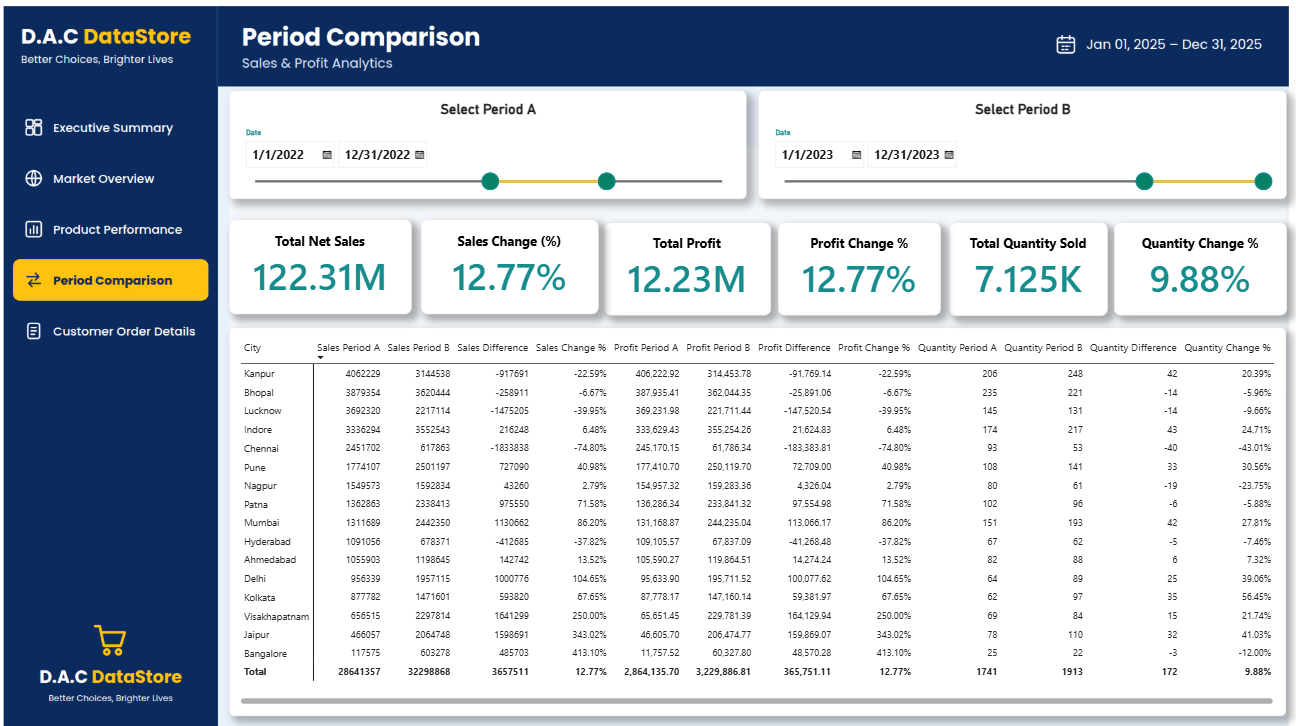

This screenshot's page, from the dashboard's own definition file:
{"tool":"powerbi","page":{"name":"Period Comparison","canvas":[1920,1080],"ordinal":3},"visuals":[{"type":"image","box":[10,0,1910,1080],"z":0},{"type":"shape","box":[360,217.5,1532.5,350],"z":1000},{"type":"pivotTable","fields":{"Rows":["Dim Product.Product Name","Dim Customers.City","Dim Promotion.Promotion Name"],"Values":["Calendar.Sales Period A","Calendar.Sales Period B","Calendar.Sales Difference","Calendar.Sales Change %","Calendar.Profit Period A","Calendar.Profit Period B","Calendar.Profit Difference","Calendar.Profit Change %","Calendar.Quantity Period A","Calendar.Quantity Period B","Calendar.Quantity Difference","Calendar.Quantity Change %"]},"box":[360.3,479.6,1531.8,563.1],"z":2000},{"type":"slicer","title":"Select Period A","fields":{"Values":["Period A.Date"]},"box":[360,137.5,750,157.5],"z":3000},{"type":"slicer","title":"Select Period B","fields":{"Values":["Period B.Date"]},"box":[1127.5,137.5,765,157.5],"z":4000},{"type":"cardVisual","fields":{"Data":["Calendar.Total Sales"]},"box":[360.3,324.3,264.7,137.5],"z":5000},{"type":"cardVisual","fields":{"Data":["Calendar.Total Profit"]},"box":[903.7,327.2,241.9,134.6],"z":6000},{"type":"cardVisual","fields":{"Data":["Calendar.Total Quantity Sold"]},"box":[1404,327.3,230.3,135.4],"z":7000},{"type":"cardVisual","fields":{"Data":["Calendar.Sales Change %"]},"box":[638.4,324.2,257.6,137.4],"z":8000},{"type":"cardVisual","fields":{"Data":["Calendar.Quantity Change %"]},"box":[1643.4,327.2,250.7,134.6],"z":9000},{"type":"cardVisual","fields":{"Data":["Calendar.Profit Change %"]},"box":[1156.6,327.2,236,134.6],"z":10000}]}

Visuals, with their boxes in screenshot pixels (x1, y1, x2, y2), scaled from the page's 1920x1080 canvas onto the 1296x726 screenshot:
image: crop(7, 0, 1295, 725)
shape: crop(243, 146, 1277, 381)
pivotTable - Dim Product.Product Name x Dim Customers.City: crop(243, 322, 1277, 701)
"Select Period A" slicer: crop(243, 92, 749, 198)
"Select Period B" slicer: crop(761, 92, 1277, 198)
cardVisual - Calendar.Total Sales: crop(243, 218, 422, 310)
cardVisual - Calendar.Total Profit: crop(610, 220, 773, 310)
cardVisual - Calendar.Total Quantity Sold: crop(948, 220, 1103, 311)
cardVisual - Calendar.Sales Change %: crop(431, 218, 605, 310)
cardVisual - Calendar.Quantity Change %: crop(1109, 220, 1279, 310)
cardVisual - Calendar.Profit Change %: crop(781, 220, 940, 310)
